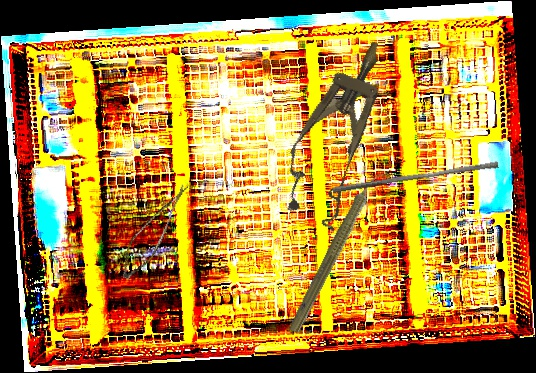Handpiece: (285, 163, 389, 337)
Micro Scissor: (116, 173, 189, 288)
Pusher: (332, 155, 499, 200)
Speculum: (268, 28, 409, 232)
